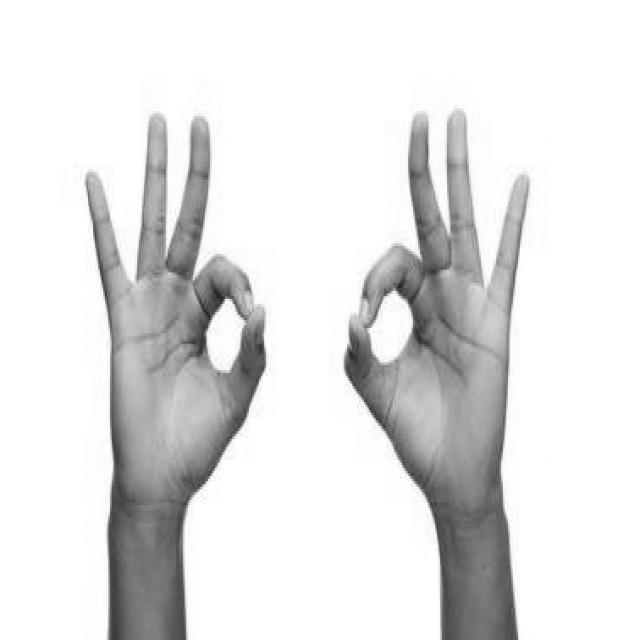perfect: (80, 104, 272, 569), (337, 101, 534, 550)
